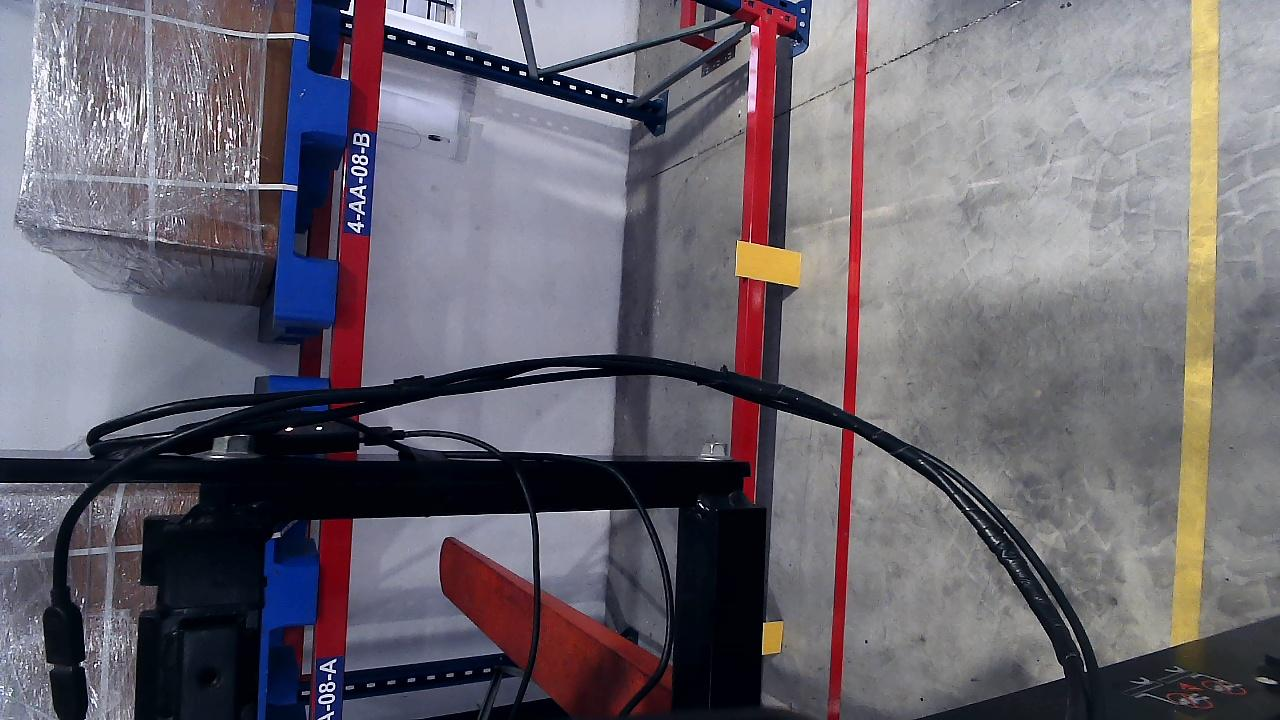h_rack: (329, 0, 390, 384), (742, 17, 780, 353)
orange_strip: (735, 241, 801, 287), (761, 621, 784, 652)
red_line: (842, 5, 868, 415), (825, 428, 856, 719)
small_pallet: (268, 1, 362, 318)
yellow_line: (1172, 47, 1221, 654)
